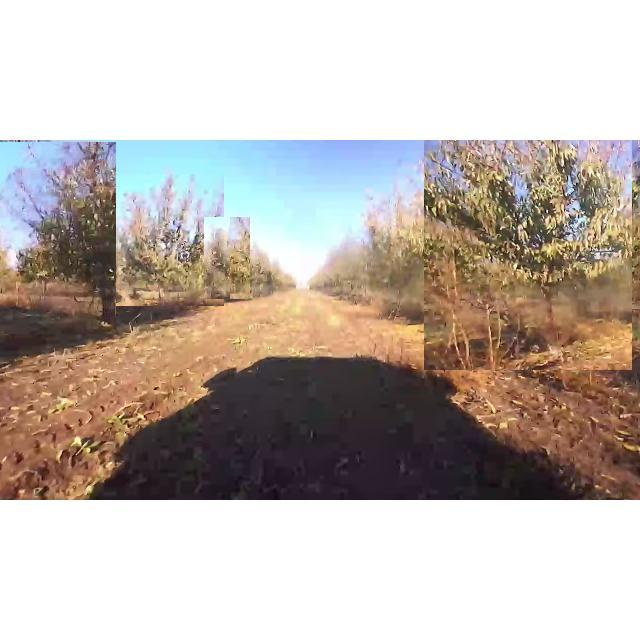direk: (424, 140, 632, 370), (0, 142, 116, 334), (116, 174, 224, 306), (358, 184, 466, 314), (204, 217, 250, 299)
